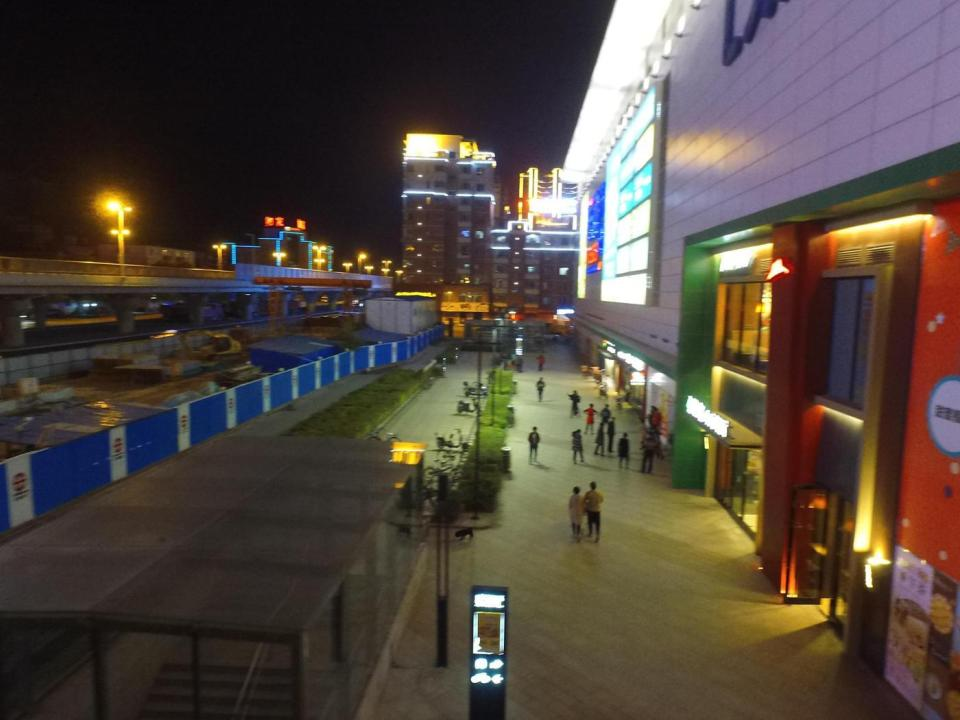car: (534, 331, 560, 342)
truck: (192, 303, 224, 322), (161, 304, 198, 320), (276, 300, 300, 314), (540, 324, 566, 336)
